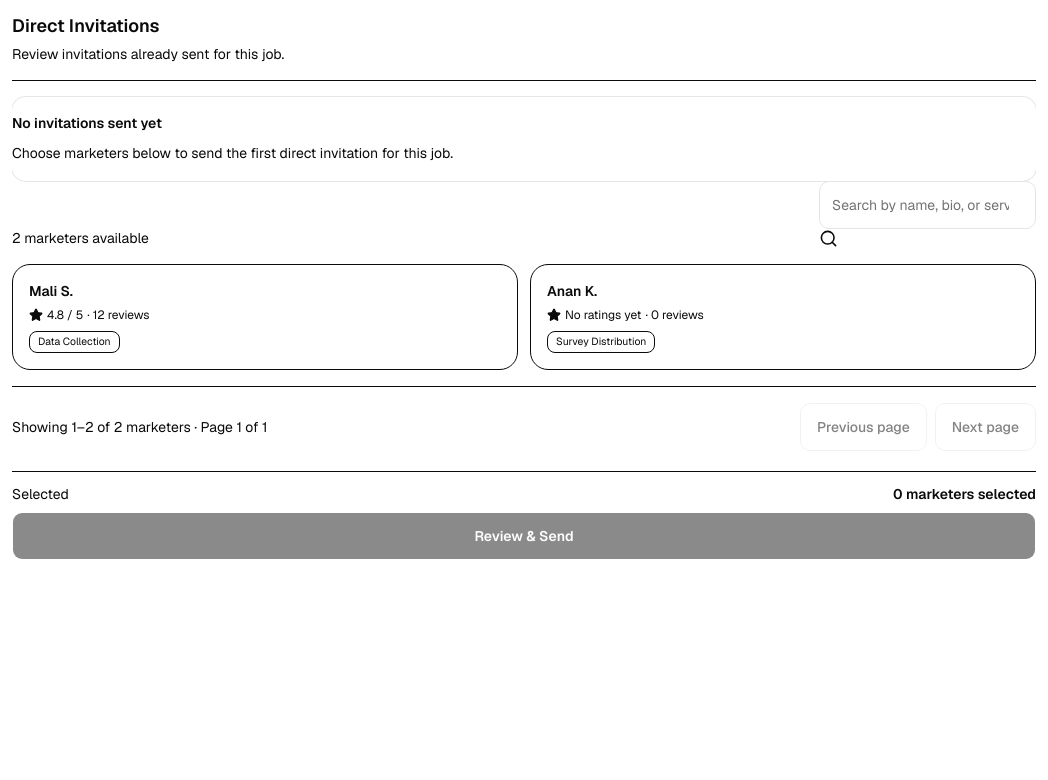
Test case: JobInviteSelector › searches marketers across pages with the backend keyword search
The image size is (1048, 780).
Step 1. Type "field research" into the search field named "Search marketers by name, bio, or service" → [928, 205], box [819, 181, 1036, 229]
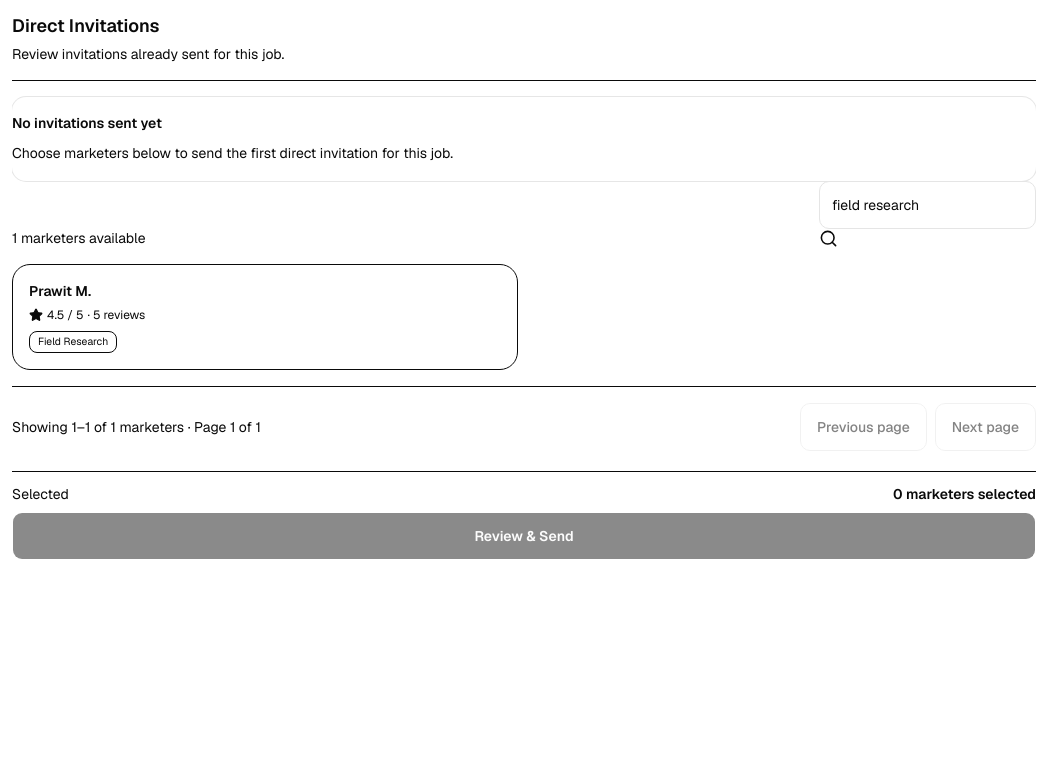
Check: the checkbox named "Select Prawit M." is shown, box [12, 264, 518, 370]
